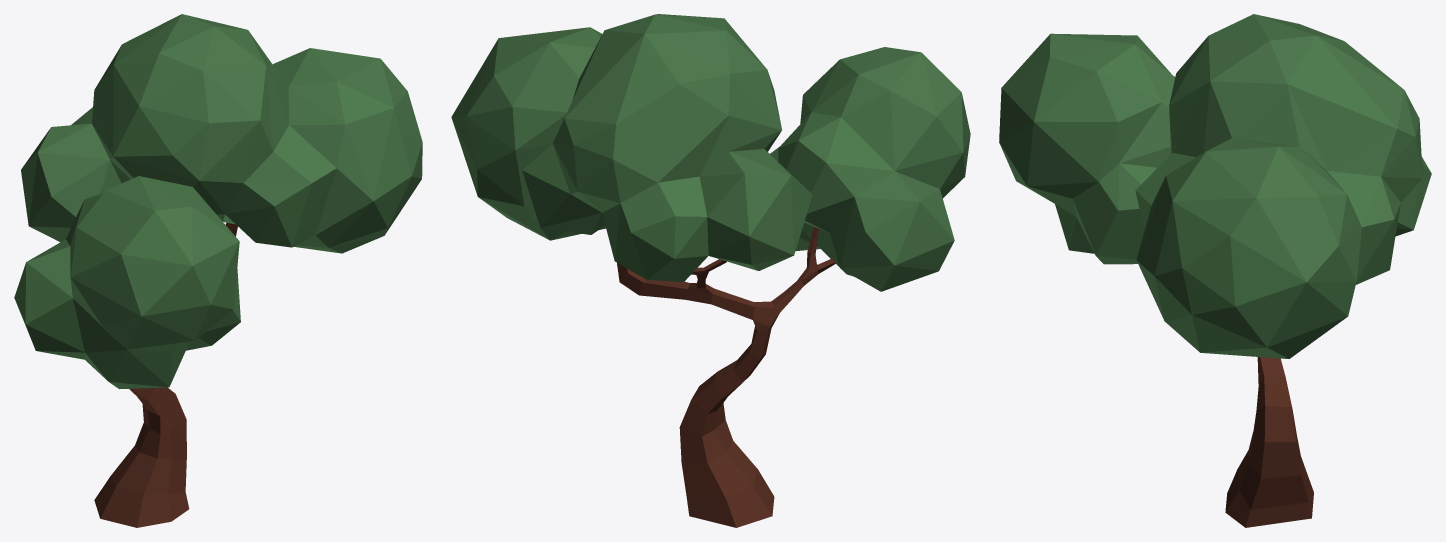
File: tree06.fbx
3 renders of one model, left to right at view 1: azimuth 30°, elevation 25°; view 2: azimuth 150°, elevation 25°; view 3: azimuth 270°, elevation 25°, orthographic. The views are drawn at different scales.
Parts seen in each view (by area): view 1: polySurface20, polySurface21, polySurface19; view 2: polySurface20, polySurface21, polySurface19; view 3: polySurface20, polySurface21, polySurface19.
Boxes of the visible parts, x1,y1,x2,y2 form: polySurface20: (21,14,422,253); polySurface21: (14,176,240,389); polySurface19: (94,223,237,527); polySurface20: (451,14,812,281); polySurface21: (770,47,970,291); polySurface19: (617,226,835,527); polySurface20: (1135,14,1431,358); polySurface21: (999,33,1175,264); polySurface19: (1225,357,1313,527).
Size of the model in its own units: 416 by 430 by 333.
